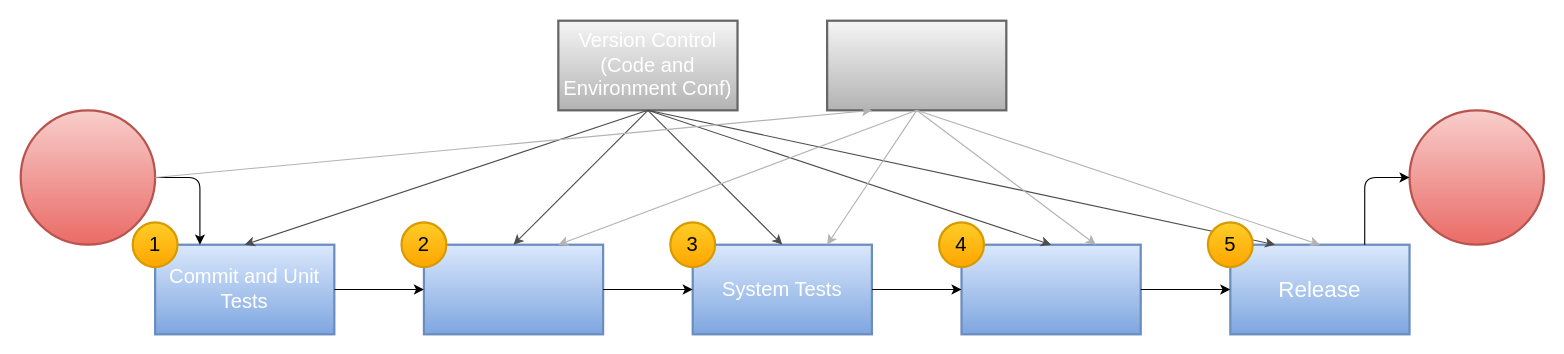
Some shapes in this 1564 by 354 pixel diagram are drawn without their labels. The shapes that lost their labels are listed below. From the top down, each one's box as (x1, y1, x2, y2) in pixels, then its label:
(825, 19, 1007, 111): Artifact Repository
(19, 109, 156, 245): New Code
(1408, 109, 1544, 245): Release Product
(422, 243, 604, 335): Integration Tests
(960, 243, 1141, 335): Manual Validation
